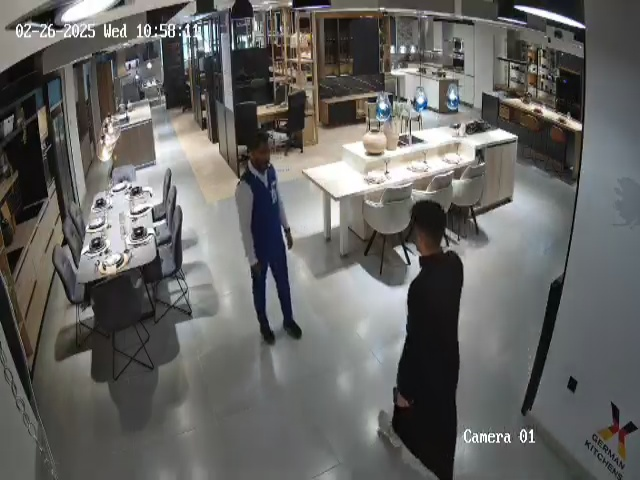employee: (234, 133, 303, 345)
male: (379, 200, 465, 480)
